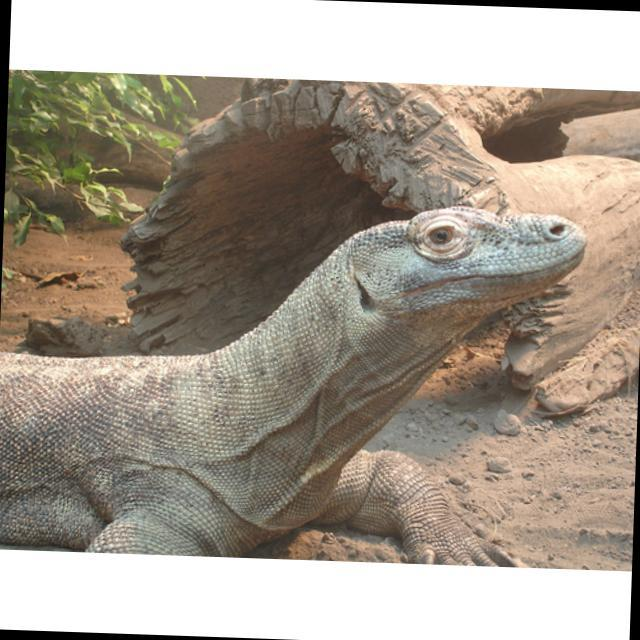KomodoDragon: (0, 188, 587, 565)
